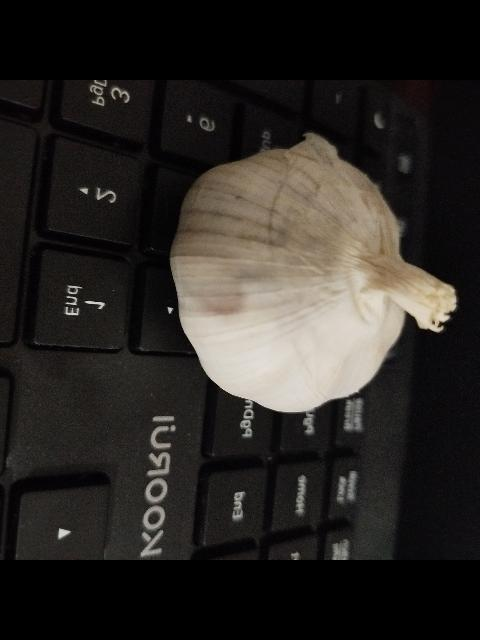garlic: (168, 132, 458, 414)
